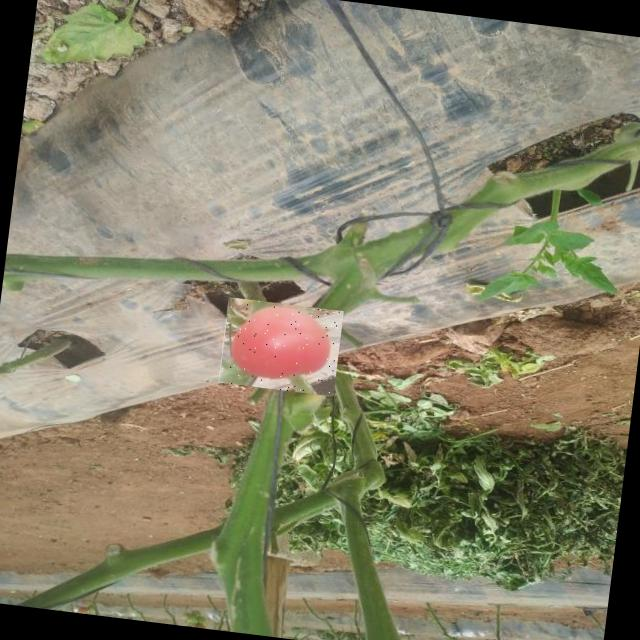Ripe Tomato: (218, 297, 344, 396)
